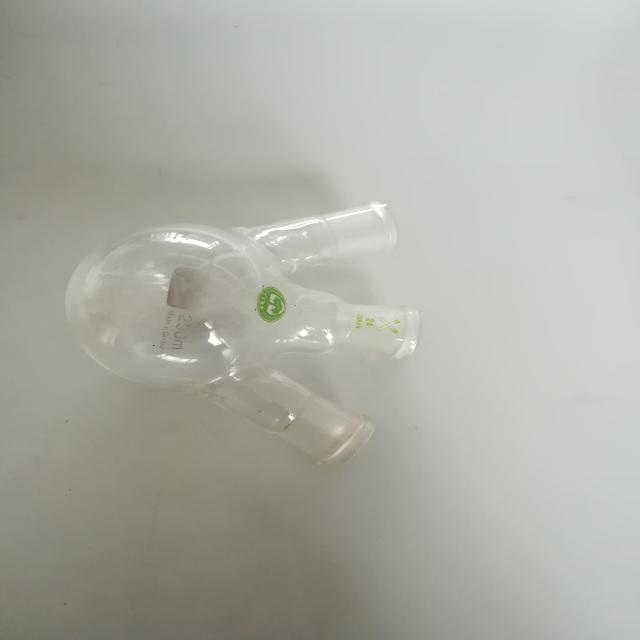Round_Bottom_Flask_Borosilicate_Glass_3_Neck: (48, 168, 478, 513)
